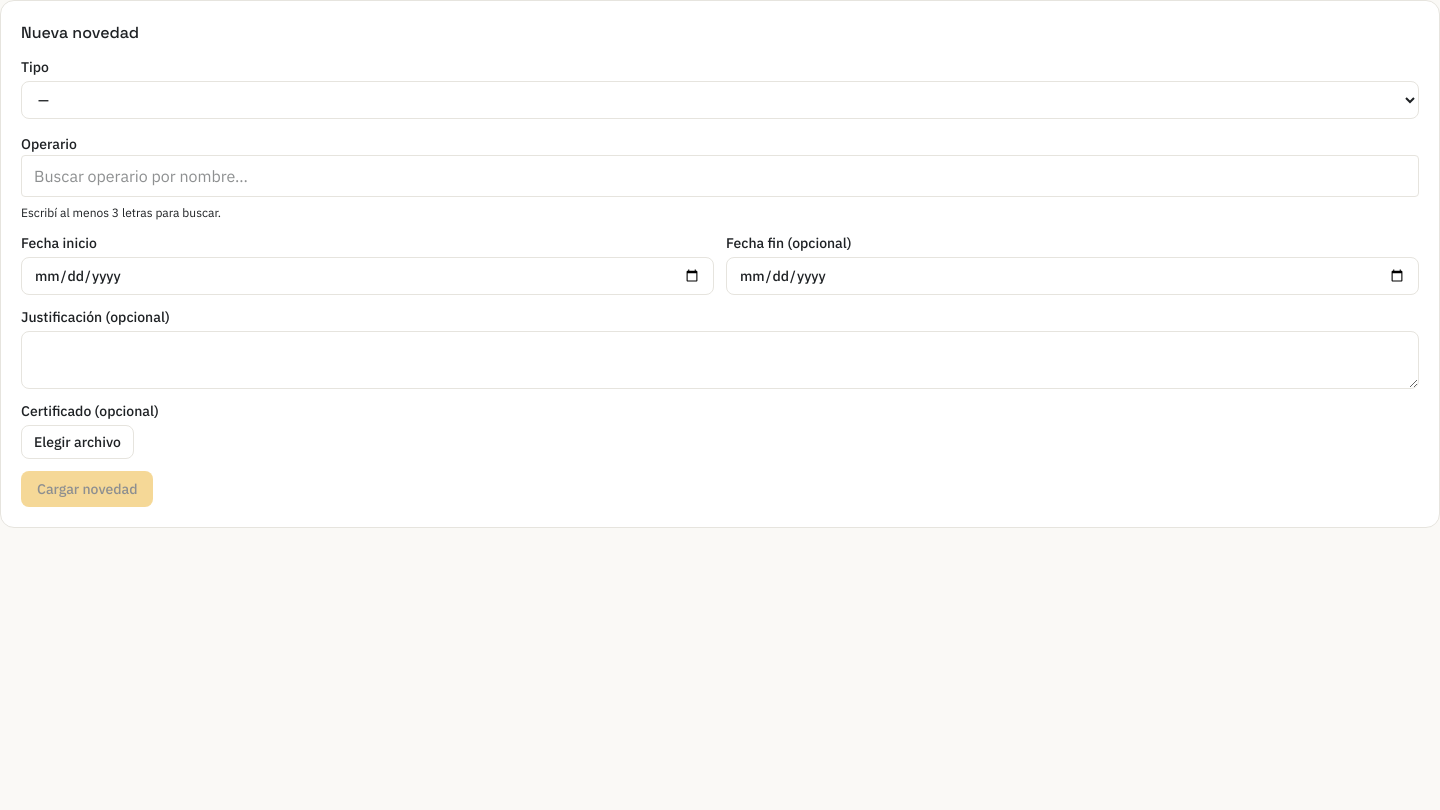
Test: NuevaNovedadForm › Baja de Operario › pide el último día trabajado con el hint y sin fecha fin
Type "gomez" into the field with placeholder "Buscar operario por nombre…" at (720, 176), box [21,155,1419,197]
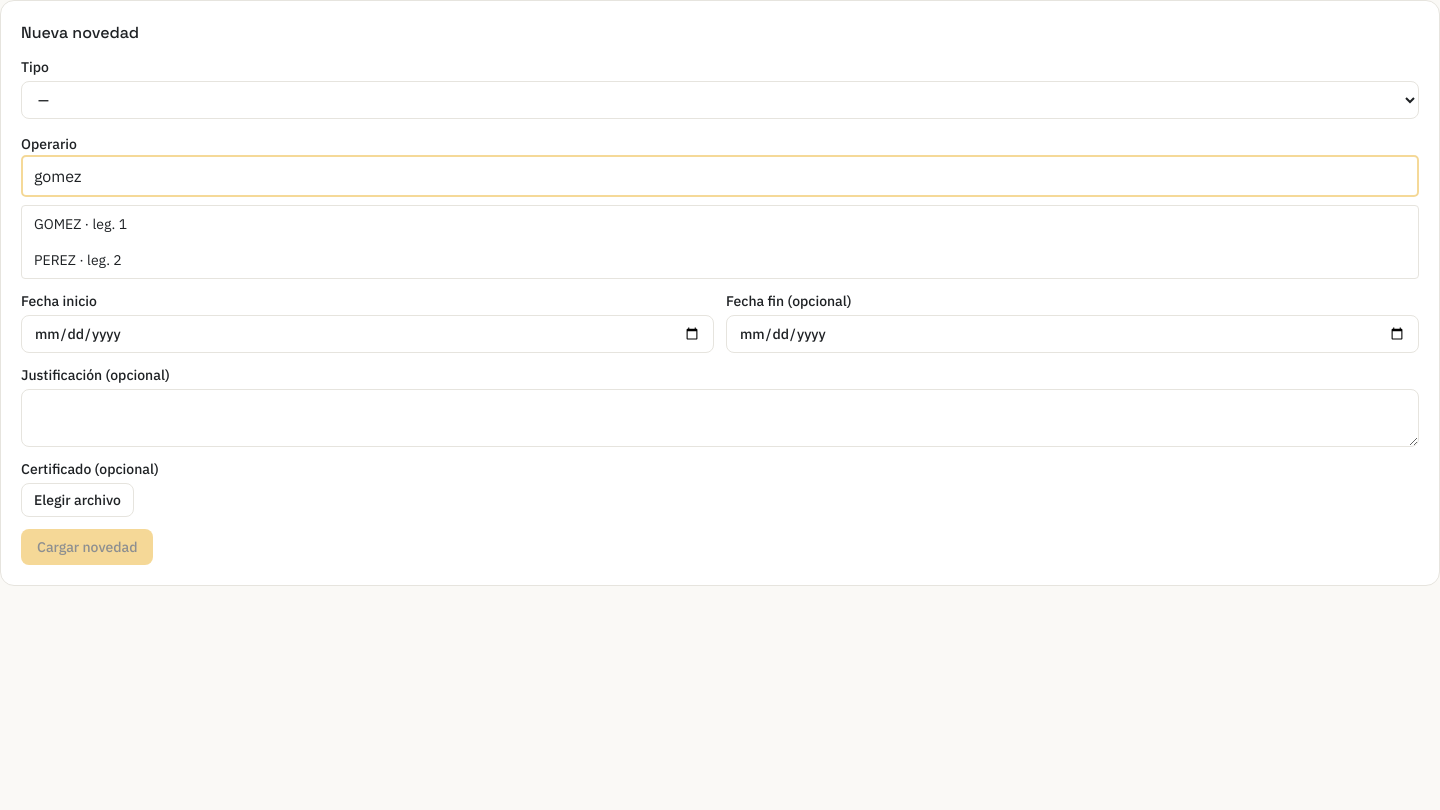
Click the button "GOMEZ · leg. 1" at (58, 224), box [22,206,1418,242]
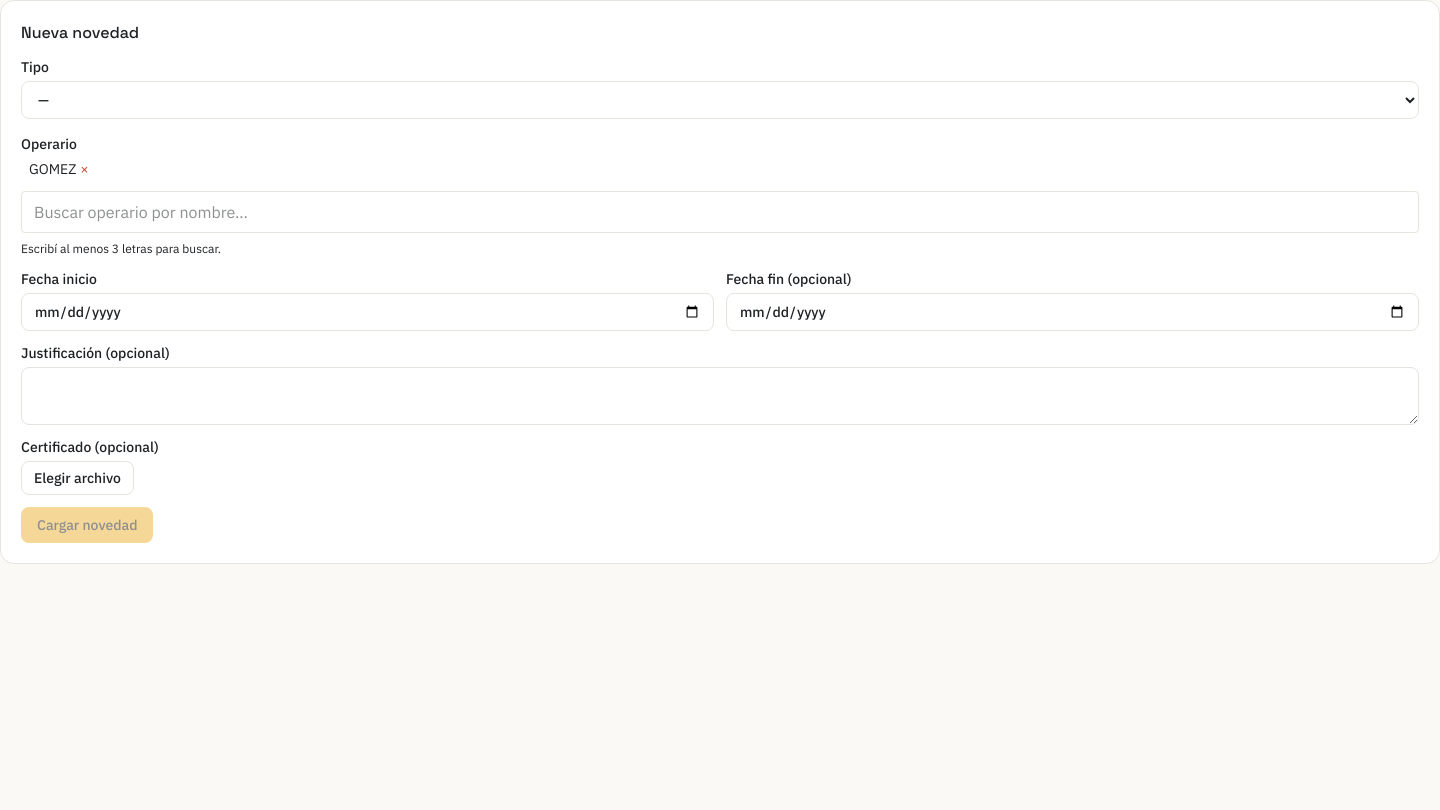
Select "Baja de Operario" in the dropdown labelled "Tipo" at (720, 100), box [21,81,1419,119]
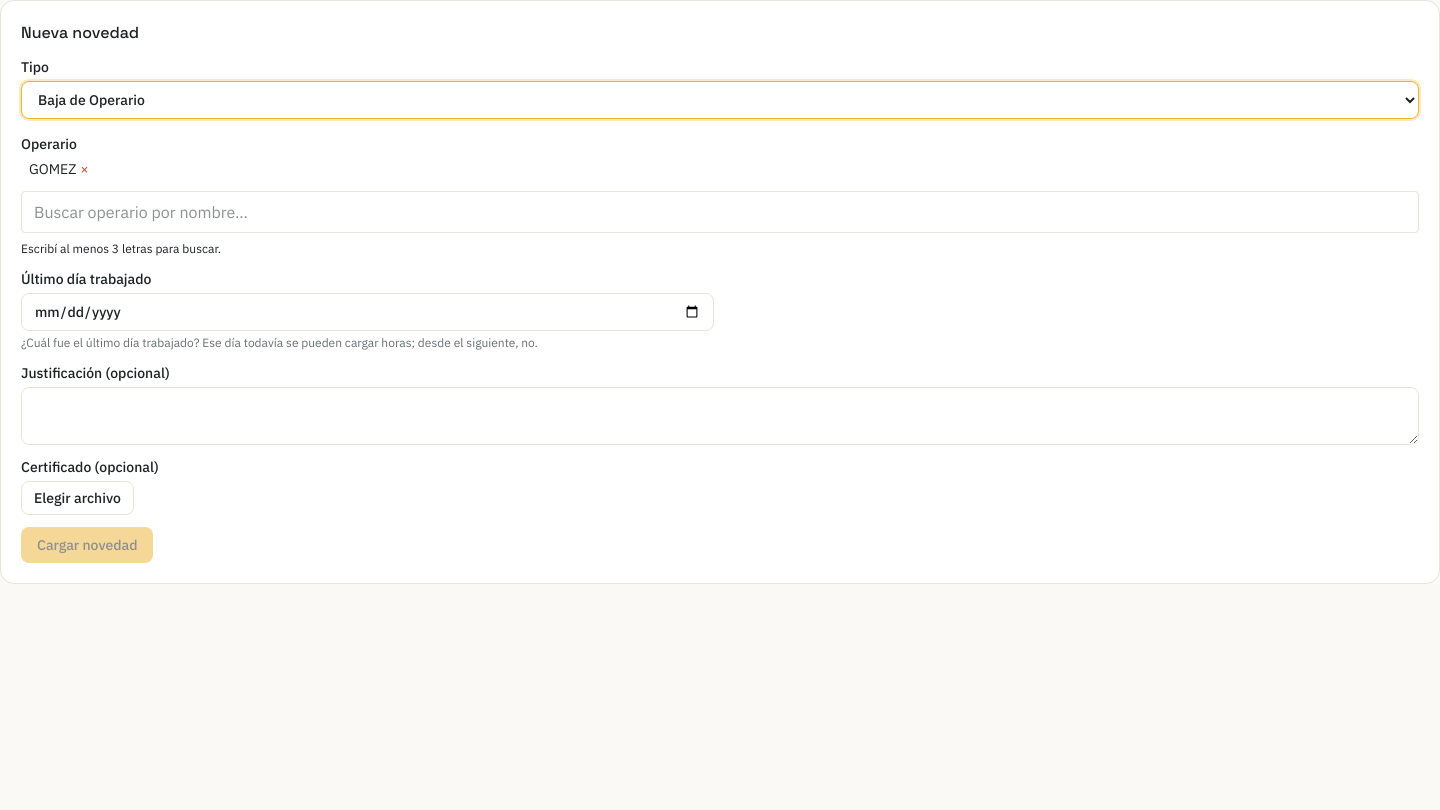
Check: the text "Último día trabajado" is shown, box [21,270,151,288]
Check: the text "¿Cuál fue el último día trabajado?" is shown, box [21,335,538,350]
Check: the label labelled "Fecha fin" is gone
